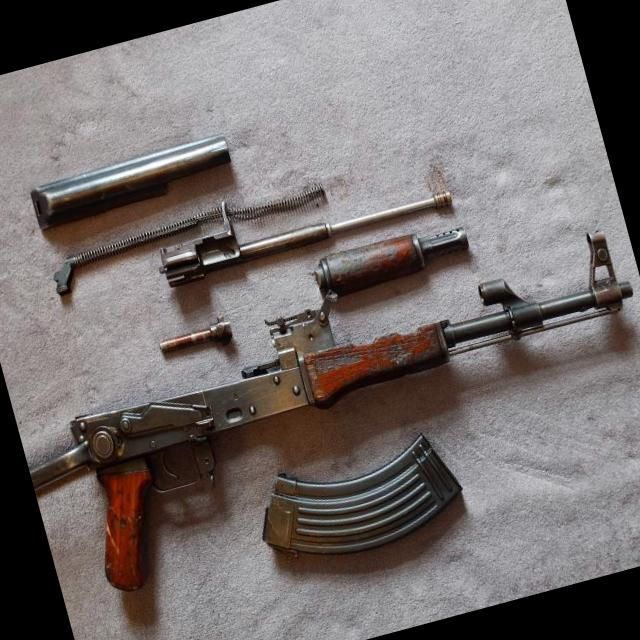Gun: (30, 232, 632, 588)
